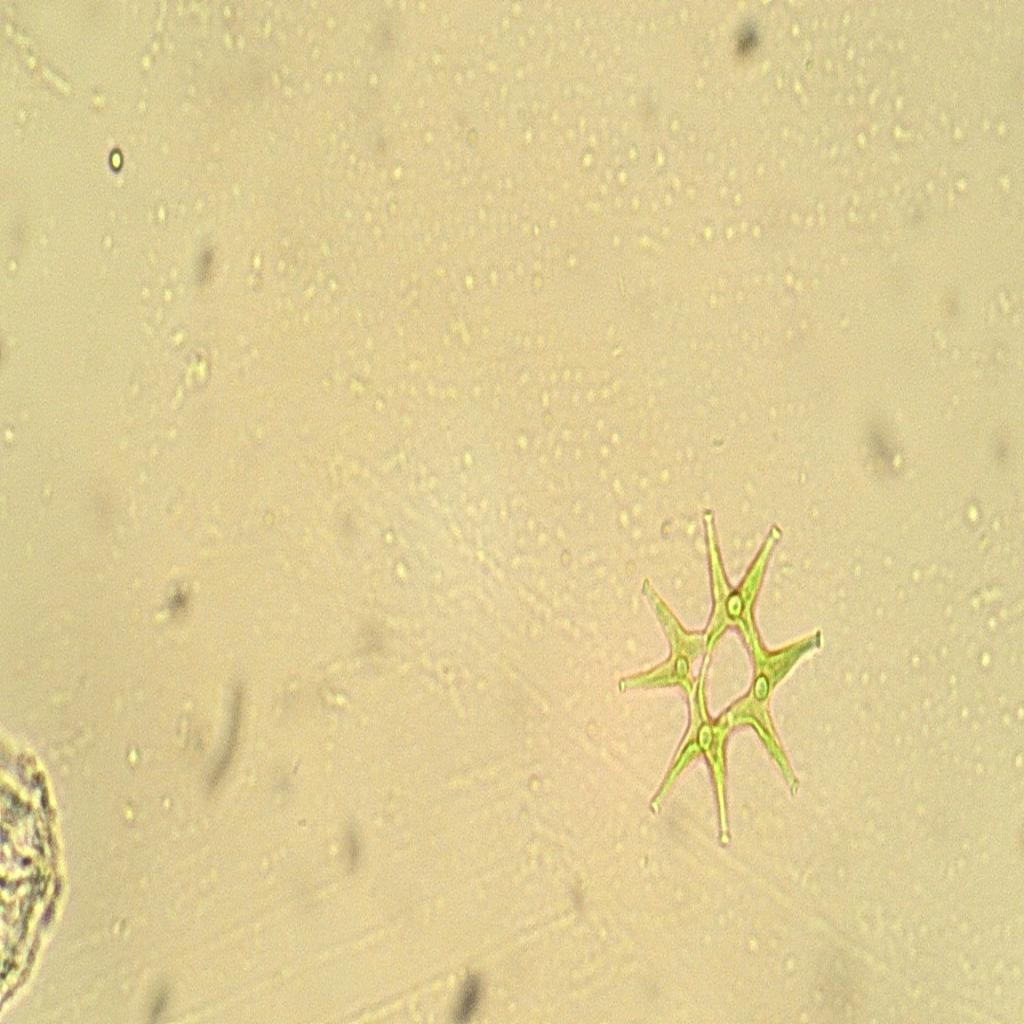Pediastrum_CF: (614, 478, 826, 880)
